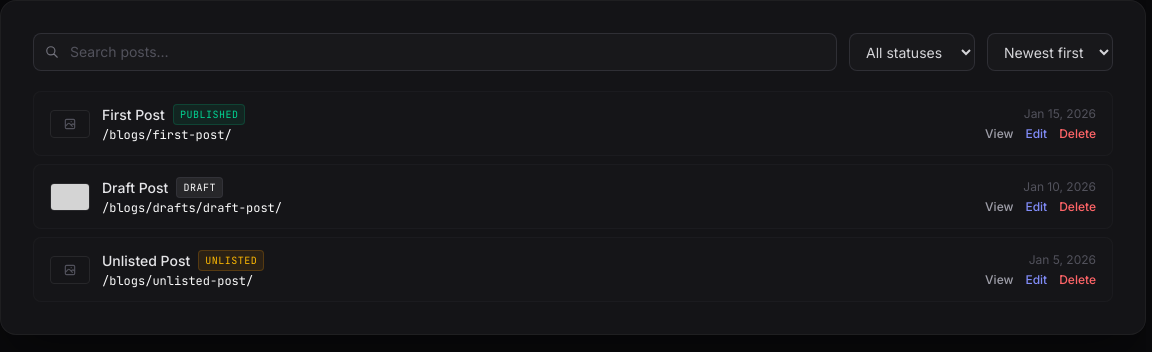
EntryList › status filter shows correct items
Select "Draft" in the 1st dropdown at (912, 52), box top-left (849, 33), bottom-right (975, 71)
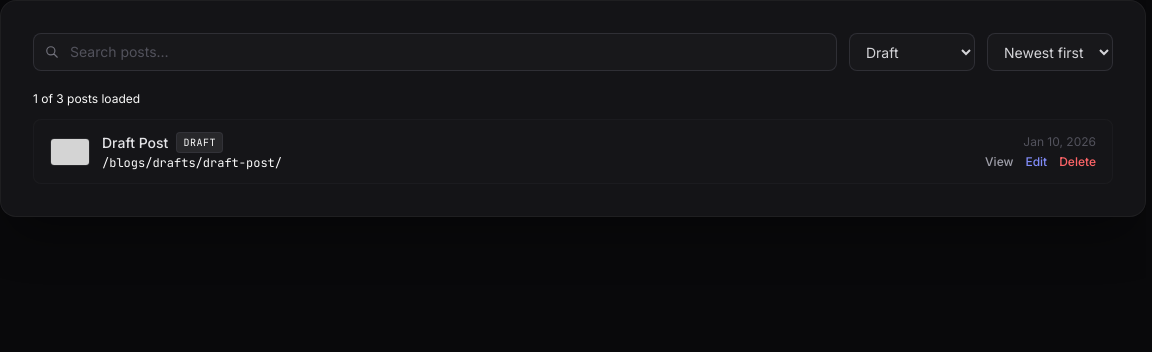
Expected: the text "1 of 3" is shown, top-left (33, 91), bottom-right (140, 106)
